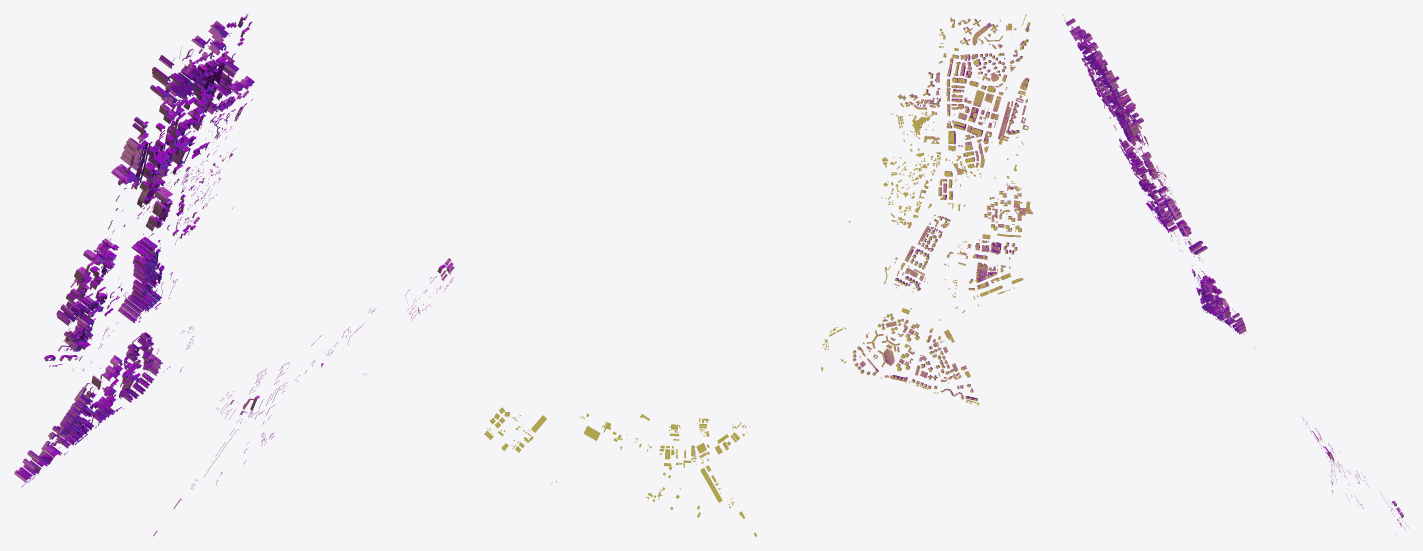
The picture shows the model from 3 angles, left to right: view 1: azimuth 30°, elevation 25°; view 2: azimuth 150°, elevation 25°; view 3: azimuth 270°, elevation 25°; orthographic projection. The views are drawn at different scales.
Visible parts, largest first — view 1: geometry_0; view 2: geometry_0; view 3: geometry_0.
Part boxes in pixels (<box>): geometry_0: <box>14,14,454,536</box>; geometry_0: <box>484,14,1033,536</box>; geometry_0: <box>1062,14,1408,533</box>.
Bounding box in the file's own units: 4341 × 4656 × 3471.
